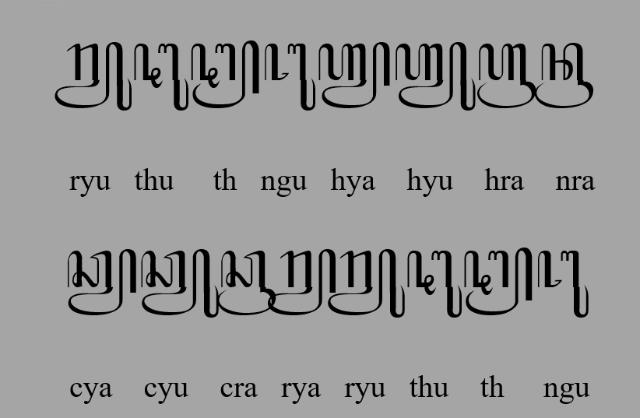-th: (463, 246, 532, 316), (191, 40, 259, 108)
cr: (216, 249, 276, 315)
cy: (66, 249, 138, 317)
cyu: (140, 248, 220, 318)
hr: (478, 43, 536, 109)
hy: (318, 42, 392, 110)
hyu: (396, 41, 476, 111)
ngu: (264, 42, 316, 111), (537, 250, 589, 318)
nr: (534, 42, 594, 110)
ry: (268, 250, 336, 316)
ryu: (326, 249, 406, 319), (55, 42, 132, 111)
thu: (134, 43, 190, 111), (408, 249, 462, 319)
